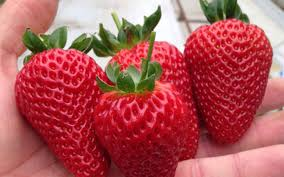strawberry: (18, 39, 116, 177), (185, 9, 273, 148), (91, 77, 183, 177)
